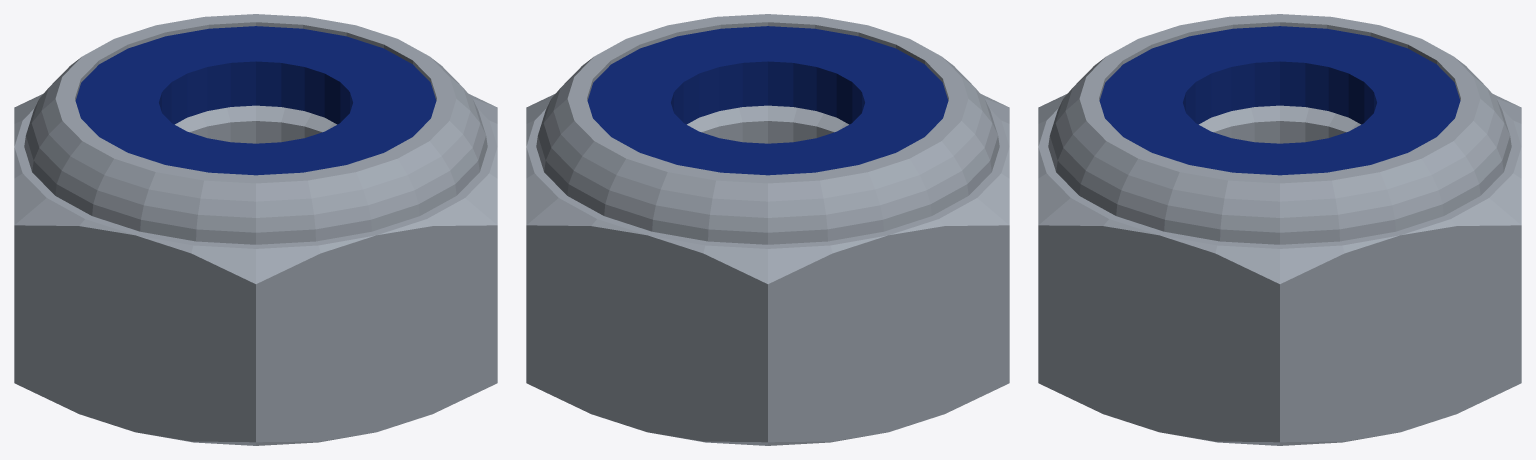
Rendered from model_display.glb.
The picture shows the model from 3 angles, left to right: view 1: azimuth 30°, elevation 25°; view 2: azimuth 150°, elevation 25°; view 3: azimuth 270°, elevation 25°; orthographic projection.
Visible parts, largest first — view 1: steel, nylon_insert; view 2: steel, nylon_insert; view 3: steel, nylon_insert.
Part boxes in pixels (bbox=[...]): steel: bbox=[14, 14, 497, 445]; nylon_insert: bbox=[75, 26, 436, 175]; steel: bbox=[526, 14, 1009, 445]; nylon_insert: bbox=[587, 26, 948, 175]; steel: bbox=[1038, 14, 1521, 445]; nylon_insert: bbox=[1099, 26, 1460, 175].
Size of the model in its own units: 0.00577 by 0.0028 by 0.005.
